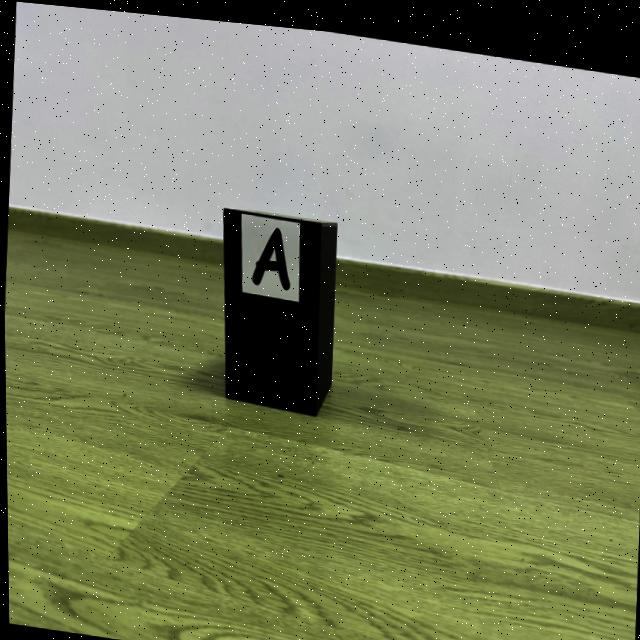A: (251, 223, 289, 285)
